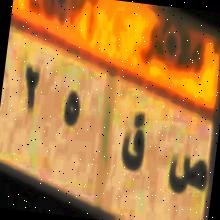2: (18, 58, 44, 114)
5: (56, 84, 84, 141)
qaaf: (117, 110, 149, 180)
saad: (165, 143, 210, 204)
